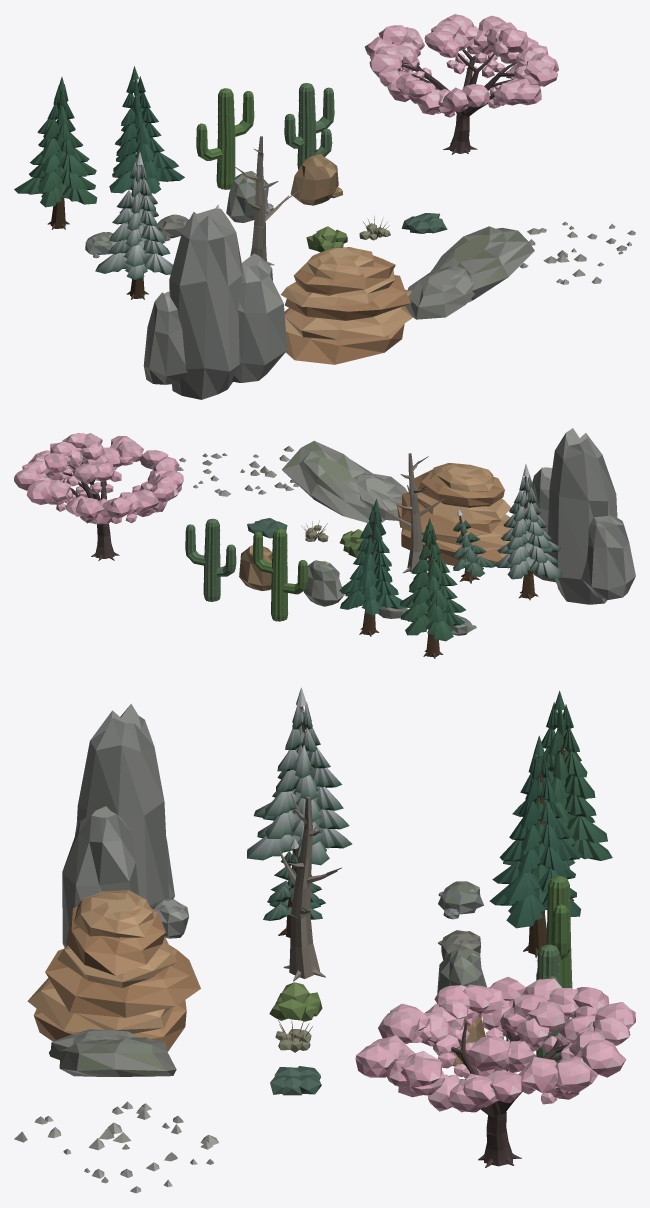
The model's file is endless-nature.glb.
The picture shows the model from 3 angles, top to bottom: view 1: azimuth 30°, elevation 25°; view 2: azimuth 150°, elevation 25°; view 3: azimuth 270°, elevation 25°; orthographic projection. The views are drawn at different scales.
Visible parts, largest first — view 1: Outcrop_Granite, Sakura_Blossom, Outcrop_Sandstone, Outcrop_Slab, Pine_Alpine, Pine_Snow, Pine_Windswept, Cactus_Saguaro, Cactus_Forked, Boulder_Sandstone, Tree_Dead, Boulder_Granite (+5 smaller); view 2: Outcrop_Granite, Sakura_Blossom, Outcrop_Sandstone, Outcrop_Slab, Pine_Alpine, Pine_Snow, Pine_Windswept, Cactus_Saguaro, Cactus_Forked, Tree_Dead, Boulder_Granite, Pine_Stunted (+4 smaller); view 3: Sakura_Blossom, Outcrop_Sandstone, Outcrop_Granite, Pine_Windswept, Pine_Snow, Pine_Alpine, Outcrop_Slab, Tree_Dead, Cactus_Saguaro, Scree_Field, Pine_Stunted, Boulder_Granite (+6 smaller).
Part boxes in pixels (bbox=[...]): Outcrop_Granite: bbox=[143, 208, 287, 399]; Sakura_Blossom: bbox=[364, 14, 558, 154]; Outcrop_Sandstone: bbox=[280, 247, 412, 364]; Outcrop_Slab: bbox=[405, 226, 534, 319]; Pine_Alpine: bbox=[14, 77, 97, 229]; Pine_Snow: bbox=[95, 151, 172, 299]; Pine_Windswept: bbox=[109, 66, 184, 208]; Cactus_Saguaro: bbox=[196, 88, 254, 189]; Cactus_Forked: bbox=[284, 83, 334, 169]; Boulder_Sandstone: bbox=[290, 153, 342, 205]; Tree_Dead: bbox=[233, 136, 299, 265]; Boulder_Granite: bbox=[226, 171, 273, 222]; Outcrop_Granite: bbox=[532, 428, 635, 604]; Sakura_Blossom: bbox=[14, 433, 183, 560]; Outcrop_Sandstone: bbox=[396, 463, 511, 567]; Outcrop_Slab: bbox=[282, 440, 407, 522]; Pine_Alpine: bbox=[400, 518, 465, 658]; Pine_Snow: bbox=[494, 464, 562, 600]; Pine_Windswept: bbox=[339, 498, 406, 636]; Cactus_Saguaro: bbox=[252, 528, 308, 621]; Cactus_Forked: bbox=[185, 518, 236, 601]; Tree_Dead: bbox=[379, 453, 444, 573]; Boulder_Granite: bbox=[304, 560, 344, 606]; Pine_Stunted: bbox=[452, 509, 495, 583]; Sakura_Blossom: bbox=[355, 977, 635, 1167]; Outcrop_Sandstone: bbox=[27, 890, 200, 1051]; Outcrop_Granite: bbox=[62, 704, 188, 947]; Pine_Windswept: bbox=[489, 735, 582, 957]; Pine_Snow: bbox=[247, 687, 352, 892]; Pine_Alpine: bbox=[503, 690, 612, 901]; Outcrop_Slab: bbox=[49, 1029, 176, 1076]; Tree_Dead: bbox=[278, 793, 341, 981]; Cactus_Saguaro: bbox=[546, 876, 572, 988]; Scree_Field: bbox=[14, 1101, 218, 1193]; Pine_Stunted: bbox=[263, 838, 325, 937]; Boulder_Granite: bbox=[437, 948, 487, 993].
Bounding box in the file's own units: 25.33 × 8.88 × 18.3.
